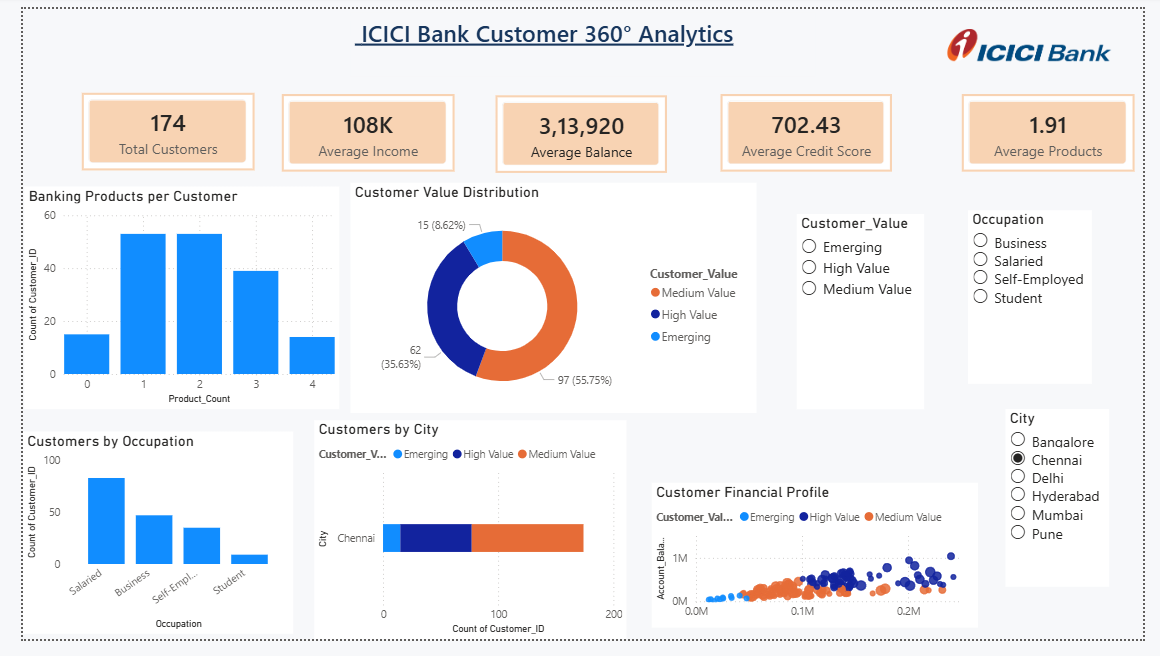

The page's visual inventory and layout, read from the dashboard file:
{"tool":"powerbi","page":{"name":"Customer 360°","canvas":[1280,720],"ordinal":0},"visuals":[{"type":"textbox","box":[374.3,4.3,531.4,72.9],"z":0},{"type":"image","box":[1030,22.9,240,37.1],"z":1000},{"type":"cardVisual","fields":{"Data":["Banking.Average Balance"]},"box":[540.7,98.8,196.2,89.2],"z":2000},{"type":"cardVisual","fields":{"Data":["Banking.Total Customers"]},"box":[67.2,96.1,197.6,89.2],"z":3000},{"type":"cardVisual","fields":{"Data":["Banking.Average Products"]},"box":[1073.1,97.4,197.6,89.2],"z":4000},{"type":"cardVisual","fields":{"Data":["Banking.Average Credit Score"]},"box":[797.3,97.4,196.2,89.2],"z":5000},{"type":"cardVisual","fields":{"Data":["Banking.Average Income"]},"box":[295,97.4,197.6,89.2],"z":6000},{"type":"clusteredColumnChart","title":"Customers by Occupation","fields":{"Category":["Banking.Occupation"],"Y":["CountNonNull(Banking.Customer_ID)"]},"box":[0,482.9,308.6,231.4],"z":7000},{"type":"barChart","title":"Customers by City","fields":{"Category":["Banking.City"],"Y":["CountNonNull(Banking.Customer_ID)"],"Series":["Banking.Customer_Value"]},"box":[332.9,470,357.1,250],"z":8000},{"type":"donutChart","title":"Customer Value Distribution","fields":{"Category":["Banking.Customer_Value"],"Y":["CountNonNull(Banking.Customer_ID)"]},"box":[374.3,198.6,464.3,262.9],"z":9000},{"type":"columnChart","title":"Banking Products per Customer","fields":{"Category":["Banking.Product_Count"],"Y":["CountNonNull(Banking.Customer_ID)"]},"box":[1.4,202.9,360,254.3],"z":10000},{"type":"scatterChart","title":"Customer Financial Profile","fields":{"X":["Banking.Monthly_Income"],"Y":["Banking.Account_Balance"],"Size":["Sum(Banking.Product_Count)"],"Series":["Banking.Customer_Value"]},"box":[718.6,541.4,372.9,165.7],"z":11000},{"type":"listSlicer","fields":{"Values":["Banking.Occupation"]},"box":[1080,230,141.4,198.6],"z":12000},{"type":"listSlicer","fields":{"Values":["Banking.City"]},"box":[1122.9,457.1,118.6,202.9],"z":13000},{"type":"listSlicer","fields":{"Values":["Banking.Customer_Value"]},"box":[884.3,234.3,145.7,222.9],"z":14000}]}

Visuals, with their boxes in screenshot pixels (x1, y1, x2, y2), scaled from the page's 1280x720 canvas onto the 1160x656 screenshot:
textbox: pyautogui.locateOnScreen(339, 4, 821, 70)
image: pyautogui.locateOnScreen(933, 21, 1151, 55)
cardVisual - Banking.Average Balance: pyautogui.locateOnScreen(490, 90, 668, 171)
cardVisual - Banking.Total Customers: pyautogui.locateOnScreen(61, 88, 240, 169)
cardVisual - Banking.Average Products: pyautogui.locateOnScreen(972, 89, 1152, 170)
cardVisual - Banking.Average Credit Score: pyautogui.locateOnScreen(723, 89, 900, 170)
cardVisual - Banking.Average Income: pyautogui.locateOnScreen(267, 89, 446, 170)
"Customers by Occupation" clusteredColumnChart: pyautogui.locateOnScreen(0, 440, 280, 651)
"Customers by City" barChart: pyautogui.locateOnScreen(302, 428, 625, 655)
"Customer Value Distribution" donutChart: pyautogui.locateOnScreen(339, 181, 760, 420)
"Banking Products per Customer" columnChart: pyautogui.locateOnScreen(1, 185, 328, 417)
"Customer Financial Profile" scatterChart: pyautogui.locateOnScreen(651, 493, 989, 644)
listSlicer - Banking.Occupation: pyautogui.locateOnScreen(979, 210, 1107, 391)
listSlicer - Banking.City: pyautogui.locateOnScreen(1018, 416, 1125, 601)
listSlicer - Banking.Customer_Value: pyautogui.locateOnScreen(801, 213, 933, 417)
